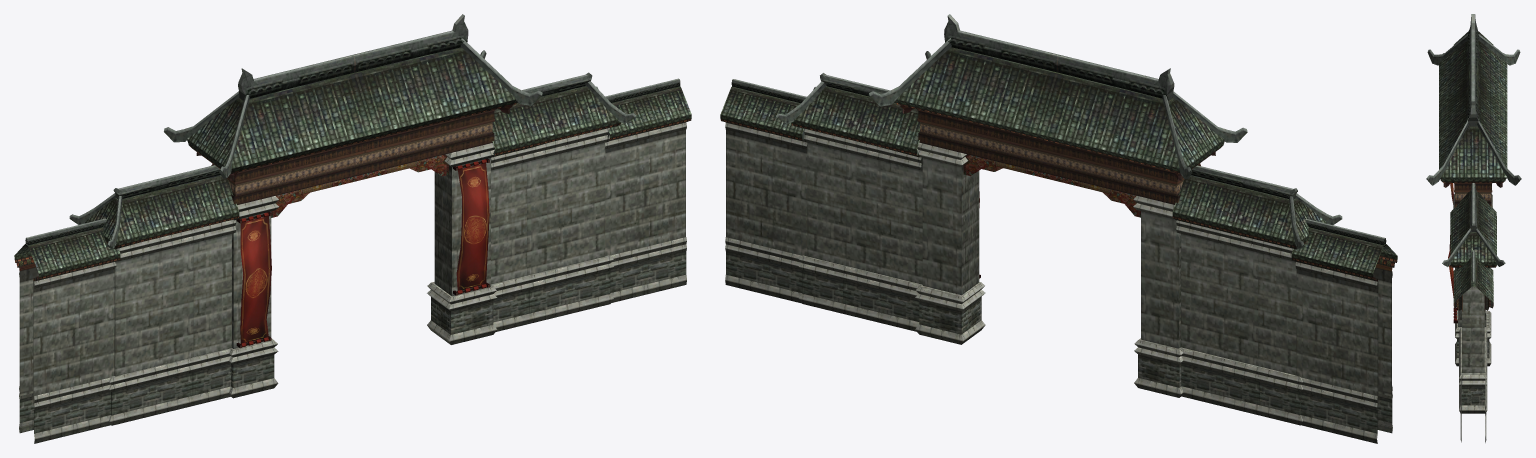
Rendered from c1-002-inwall-01.fbx.
The picture shows the model from 3 angles, left to right: view 1: azimuth 30°, elevation 25°; view 2: azimuth 150°, elevation 25°; view 3: azimuth 270°, elevation 25°; orthographic projection. The views are drawn at different scales.
Parts seen in each view (by area): view 1: Mesh04; view 2: Mesh04; view 3: Mesh04.
Boxes of the visible parts, bbox=[...] form: Mesh04: bbox=[14, 14, 691, 443]; Mesh04: bbox=[720, 14, 1397, 443]; Mesh04: bbox=[1426, 14, 1521, 442].
Bounding box in the file's own units: 26.85 × 12.47 × 4.19.
